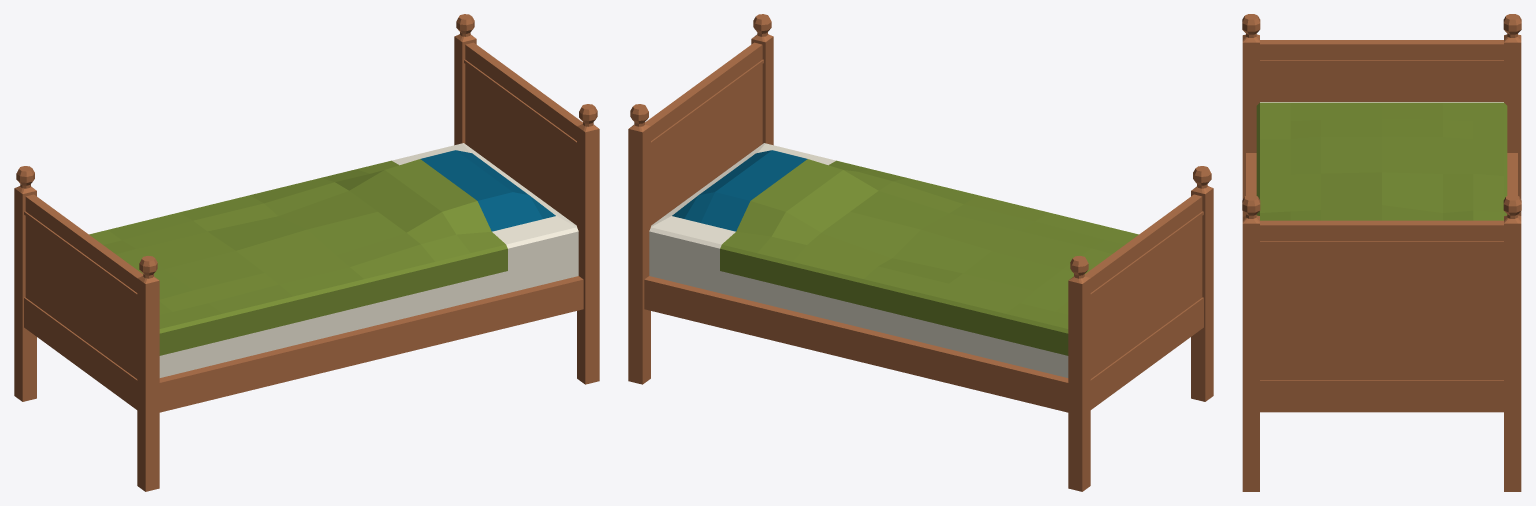
Rendered from 70sBed.fbx.
The picture shows the model from 3 angles, left to right: view 1: azimuth 30°, elevation 25°; view 2: azimuth 150°, elevation 25°; view 3: azimuth 270°, elevation 25°; orthographic projection. The views are drawn at different scales.
Visible parts, largest first — view 1: 70s.Bed; view 2: 70s.Bed; view 3: 70s.Bed.
Boxes of the visible parts, bbox=[...] form: 70s.Bed: bbox=[14, 14, 599, 491]; 70s.Bed: bbox=[628, 14, 1213, 491]; 70s.Bed: bbox=[1242, 14, 1521, 491].
Bounding box in the file's own units: 160 × 92 × 80.23.
